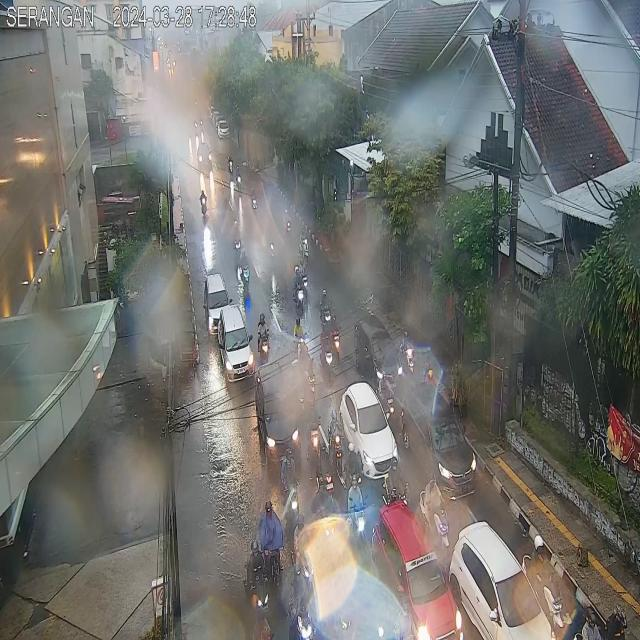car: (448, 520, 556, 640), (372, 500, 463, 640), (400, 381, 478, 498), (339, 380, 397, 480), (255, 362, 301, 464), (354, 316, 403, 392), (218, 305, 255, 381), (204, 273, 233, 336)
motorcycle: (521, 535, 564, 639), (418, 473, 451, 559), (241, 538, 272, 626), (256, 500, 285, 594), (288, 563, 314, 640), (346, 475, 368, 548), (281, 451, 302, 525), (314, 443, 336, 510), (382, 456, 409, 510), (375, 370, 397, 435), (343, 441, 364, 500), (305, 398, 323, 465), (298, 345, 316, 409), (328, 408, 344, 478), (398, 328, 415, 379), (319, 323, 334, 379), (256, 313, 270, 364), (318, 287, 332, 334), (293, 317, 307, 364), (330, 312, 342, 366), (292, 266, 304, 315), (239, 249, 251, 291), (299, 258, 309, 300), (299, 229, 309, 266)
